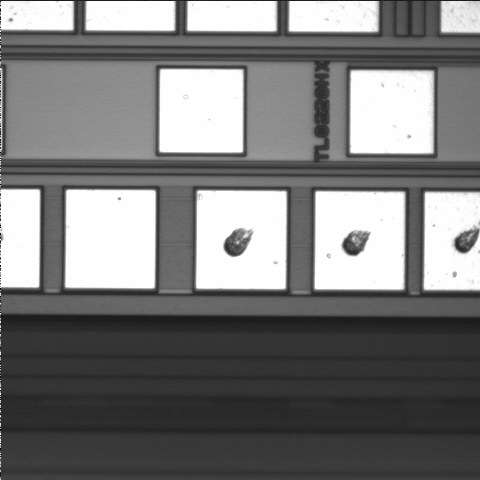pad: (65, 190, 156, 288), (196, 191, 287, 289), (315, 191, 405, 290), (159, 69, 243, 153), (350, 71, 433, 153)
